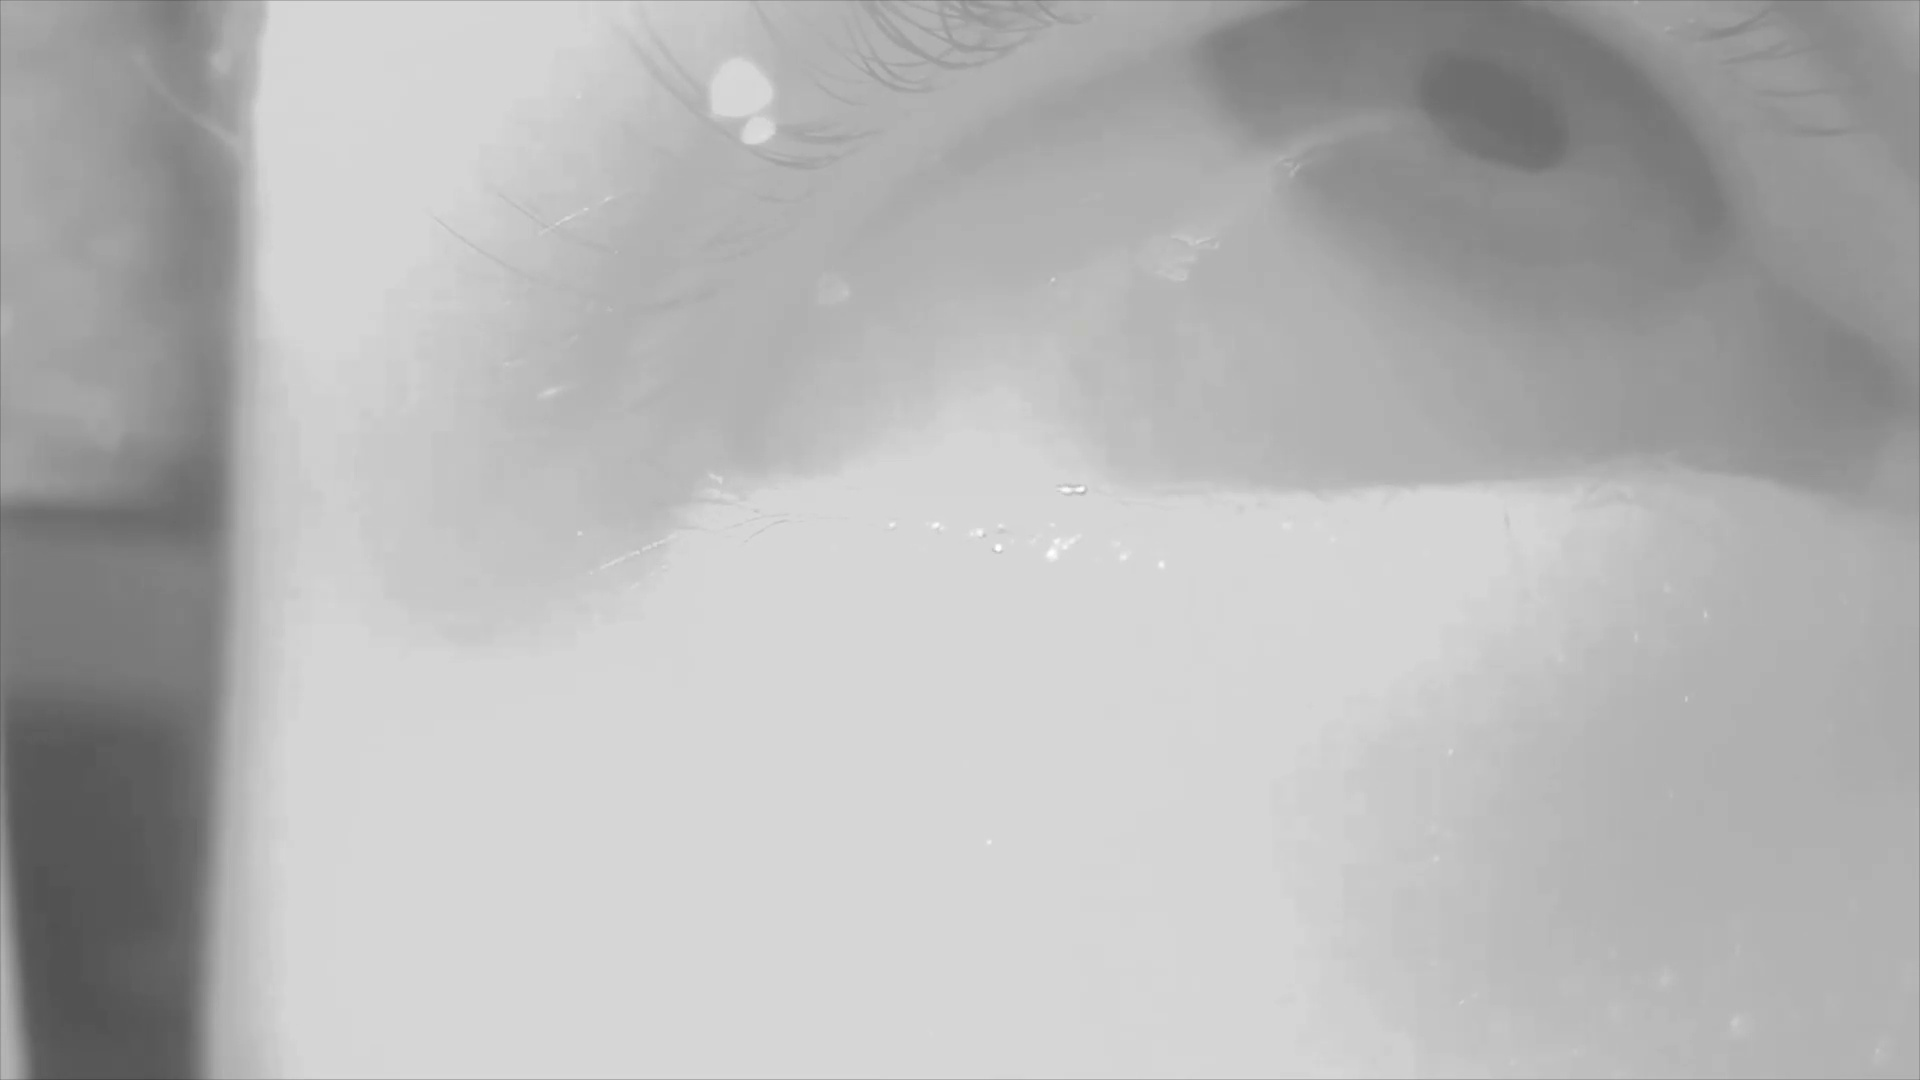pupil: (1420, 54, 1573, 173)
